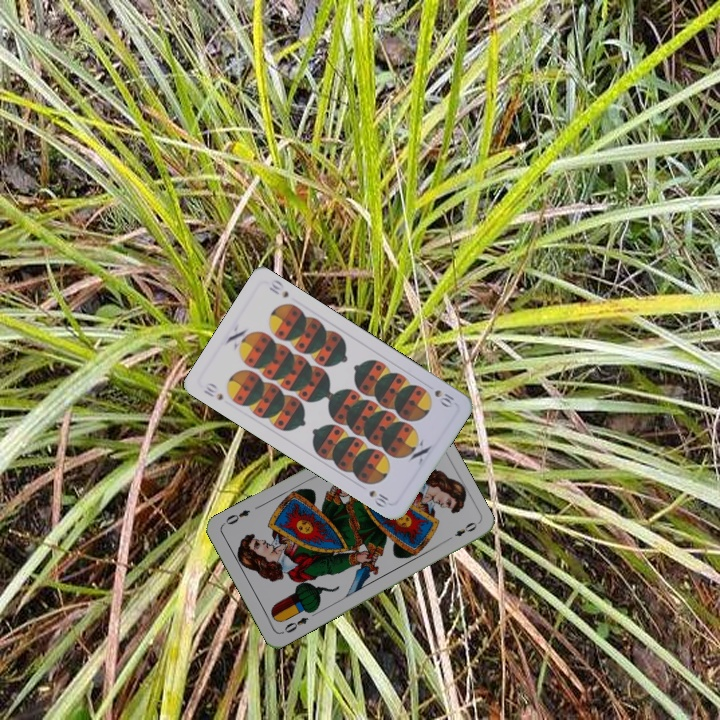EO: (280, 613, 311, 635)
S10: (430, 385, 457, 410), (200, 379, 226, 403)
